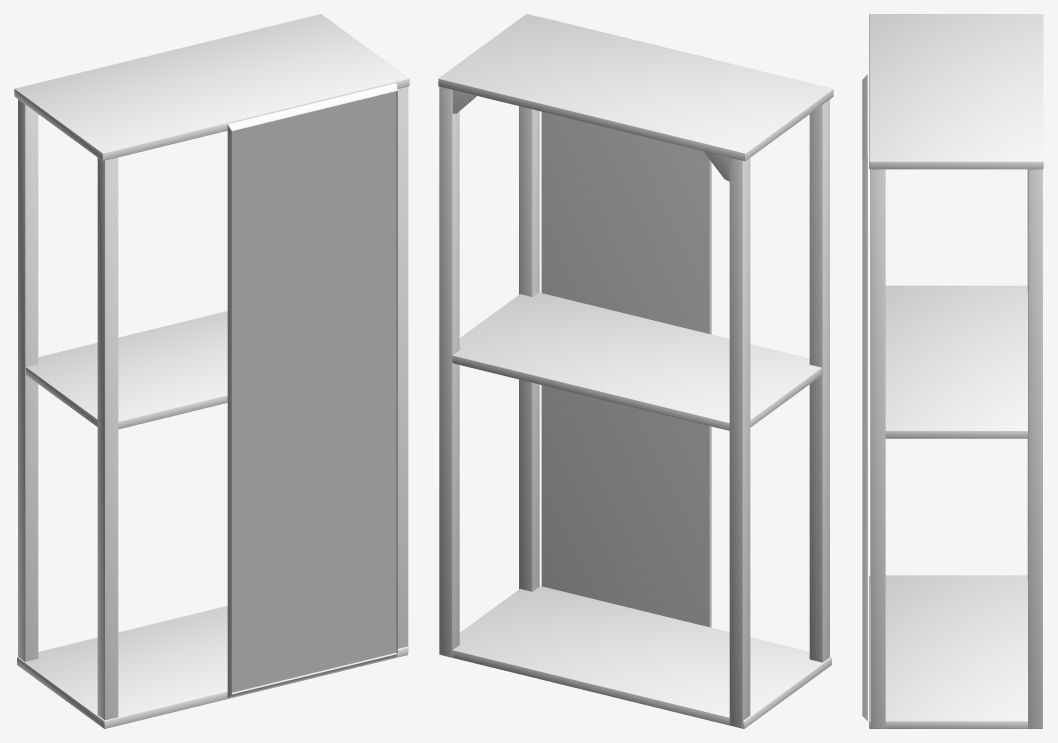
The model's file is mirrior_012(White).gltf.
3 views of the same model, side by side, from view 1: azimuth 30°, elevation 25°; view 2: azimuth 150°, elevation 25°; view 3: azimuth 270°, elevation 25° (orthographic).
Parts seen in each view (by area): view 1: mirrior_012; view 2: mirrior_012; view 3: mirrior_012.
Part boxes in pixels (left/top/right/bottom): mirrior_012: left=14, top=14, right=409, bottom=728; mirrior_012: left=438, top=14, right=833, bottom=728; mirrior_012: left=862, top=14, right=1043, bottom=728.
Bounding box in the file's own units: 0.4241 × 0.7605 × 0.2202.
Materials: 1 (1 with a texture image).
